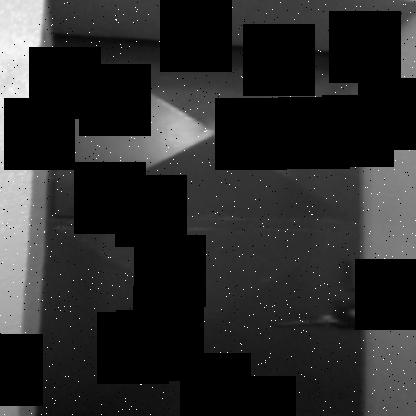Porte: (42, 25, 366, 415)
